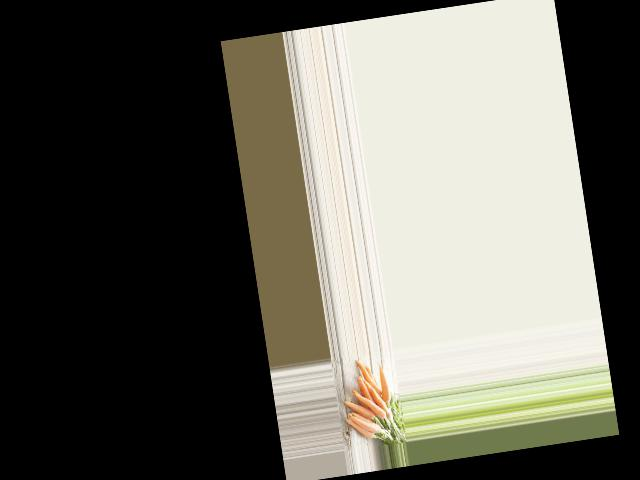carrot: (376, 363, 394, 402)
